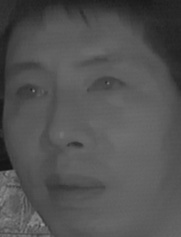eye: (85, 72, 129, 97), (11, 82, 50, 107)
mouth: (41, 168, 107, 207)
